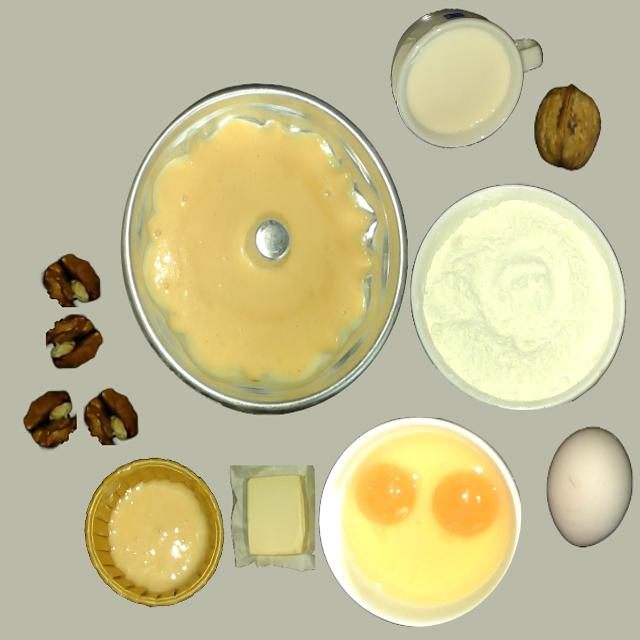Egg: (432, 471, 499, 537), (357, 464, 419, 526)
Flour: (421, 200, 614, 404)
Sugar: (402, 24, 514, 139)
Walnut: (534, 85, 600, 170)
